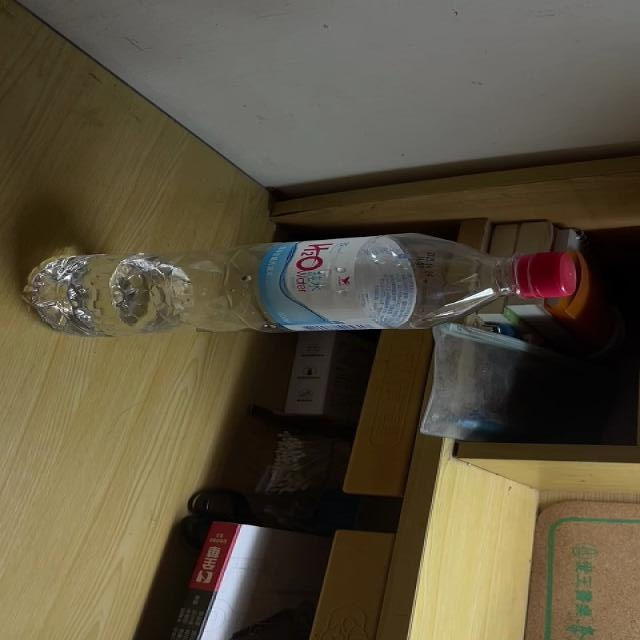Water: (25, 232, 576, 338)
